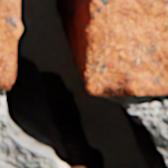broken_brick: (83, 0, 167, 95), (0, 0, 22, 88)
crack: (2, 0, 167, 167)
